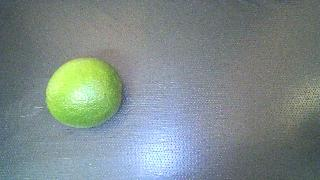EXPORTACION: (46, 58, 122, 128)
